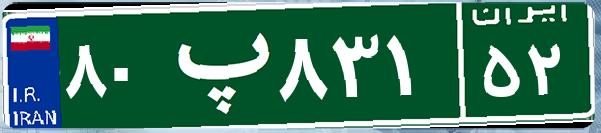0: (110, 28, 158, 105)
1: (385, 28, 445, 110)
2: (525, 38, 570, 115)
3: (330, 28, 385, 110)
5: (475, 38, 525, 113)
8: (273, 28, 330, 110), (57, 26, 110, 107)
پ: (158, 15, 273, 115)
